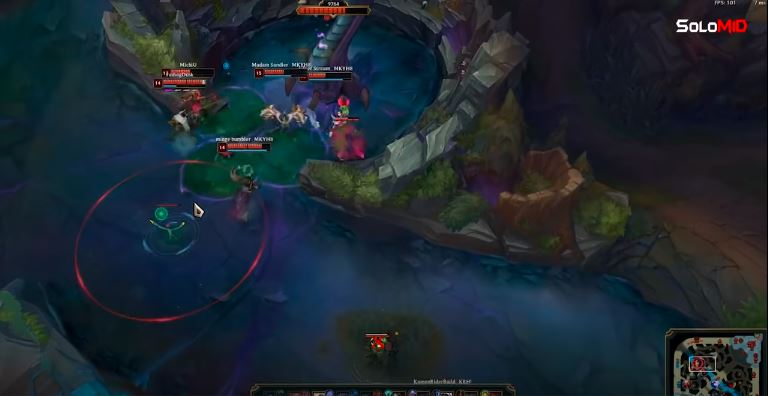bar: (151, 76, 213, 91)
w: (296, 68, 355, 83), (160, 66, 217, 81), (215, 140, 275, 154), (252, 66, 312, 79)
